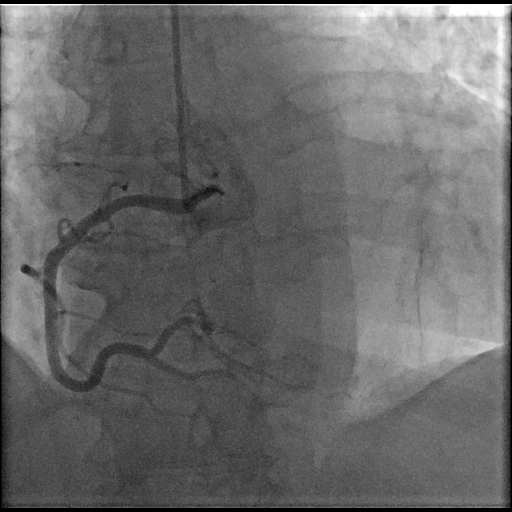RCA: (21, 183, 299, 390)
catherter: (170, 4, 190, 210)
